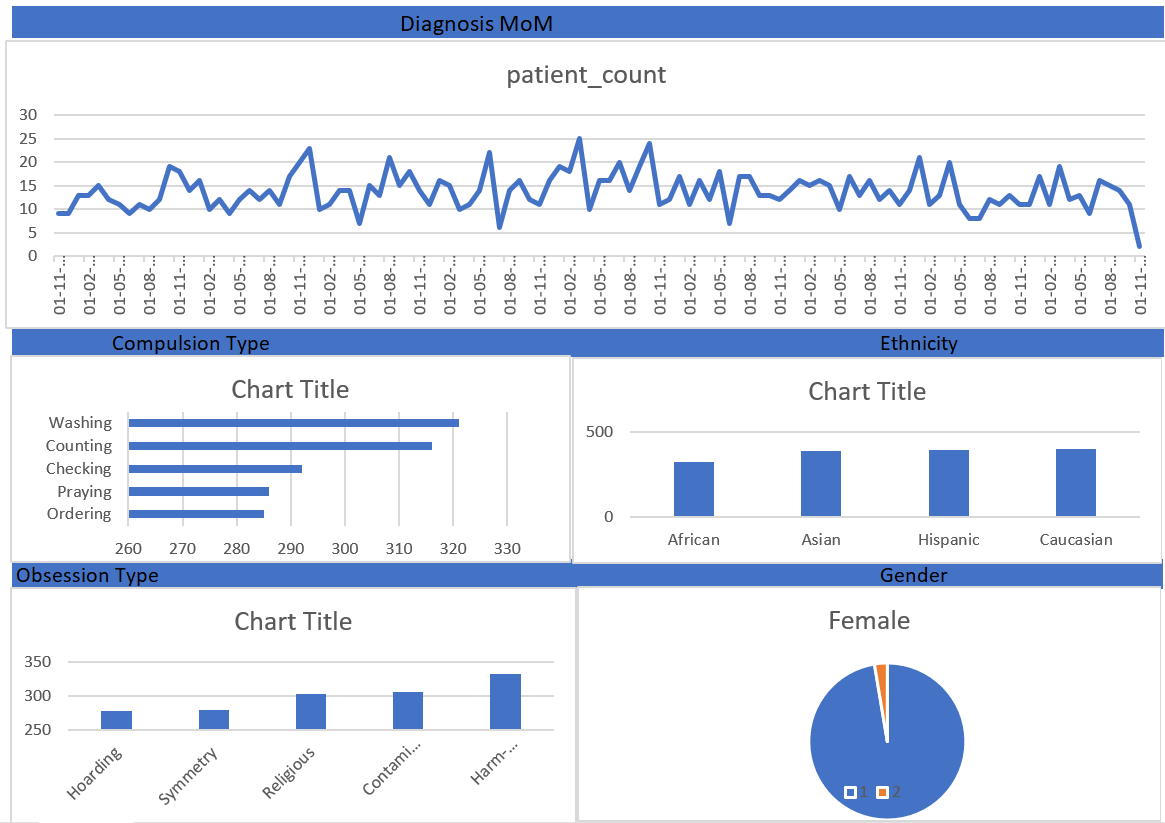

What the dashboard file says about the page in this screenshot:
{"tool":"powerbi","page":{"name":"Page 1","canvas":[1280,720],"ordinal":0},"visuals":[{"type":"textbox","box":[353.4,0,750.2,58.6],"z":0},{"type":"lineChart","fields":{"Y":["Sum(diagnosis mom.patient_count)"],"Category":["diagnosis mom.month"]},"box":[0,71.8,1279.4,207.9],"z":1000},{"type":"donutChart","fields":{"Category":["gender.Gender"],"Y":["CountNonNull(gender.patient_count)"]},"box":[0,279.7,338.3,200.3],"z":2000},{"type":"clusteredBarChart","fields":{"Category":["ethnicity.Ethnicity"],"Series":["ethnicity.patient_count"],"Y":["Sum(ethnicity.patient_count)"]},"box":[338.3,279.7,941.1,200.3],"z":3000},{"type":"columnChart","fields":{"Category":["comp_type.Compulsion Type"],"Series":["comp_type.patient_count"],"Y":["CountNonNull(comp_type.patient_count)"]},"box":[0,489.5,565,230.6],"z":3001},{"type":"lineChart","title":"Obsession_Count against Avg_Obs_Score","fields":{"Category":["obs_type.Obsession Type"],"Y":["Sum(obs_type.obs_score)","Sum(obs_type.patient_count)"]},"box":[565,489.5,714.3,230.6],"z":3002}]}

Visuals, with their boxes on the page's 1280x720 design canvas (x1, y1, x2, y2). These are canvas units, not pixel positions in the 1165x823 screenshot, which may show the page scaled, cropped or inside an application window:
textbox: {"left": 353, "top": 0, "right": 1104, "bottom": 59}
lineChart - Sum(diagnosis mom.patient_count) x diagnosis mom.month: {"left": 0, "top": 72, "right": 1279, "bottom": 280}
donutChart - gender.Gender x CountNonNull(gender.patient_count): {"left": 0, "top": 280, "right": 338, "bottom": 480}
clusteredBarChart - ethnicity.Ethnicity x ethnicity.patient_count: {"left": 338, "top": 280, "right": 1279, "bottom": 480}
columnChart - comp_type.Compulsion Type x comp_type.patient_count: {"left": 0, "top": 490, "right": 565, "bottom": 720}
"Obsession_Count against Avg_Obs_Score" lineChart: {"left": 565, "top": 490, "right": 1279, "bottom": 720}
